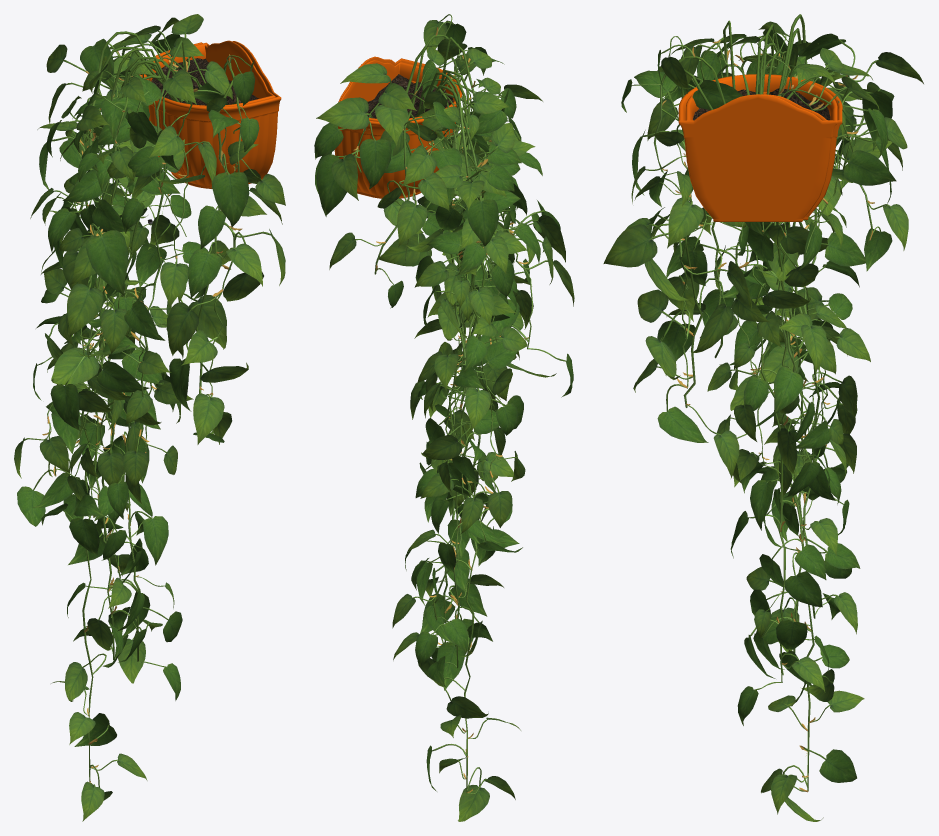
The model's file is plant_20.glb.
3 views of the same model, side by side, from view 1: azimuth 30°, elevation 25°; view 2: azimuth 150°, elevation 25°; view 3: azimuth 270°, elevation 25° (orthographic). The views are drawn at different scales.
Parts seen in each view (by area): view 1: Plants_VOL02_07; view 2: Plants_VOL02_07; view 3: Plants_VOL02_07.
Boxes of the visible parts, x1,y1,x2,y2 form: Plants_VOL02_07: (14,14,285,821); Plants_VOL02_07: (314,14,574,821); Plants_VOL02_07: (603,14,923,821).
Size of the model in its own units: 0.5397 by 1.98 by 0.6956.
5 materials, 3 textured.
